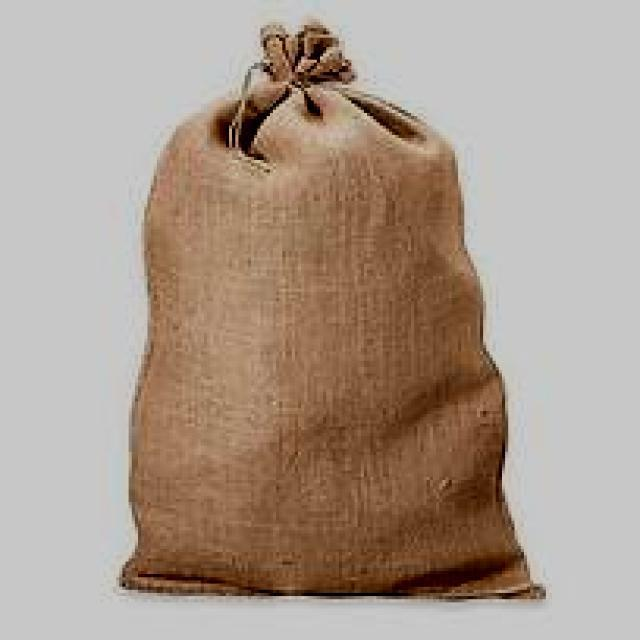gunny_bag: (119, 14, 546, 605)
